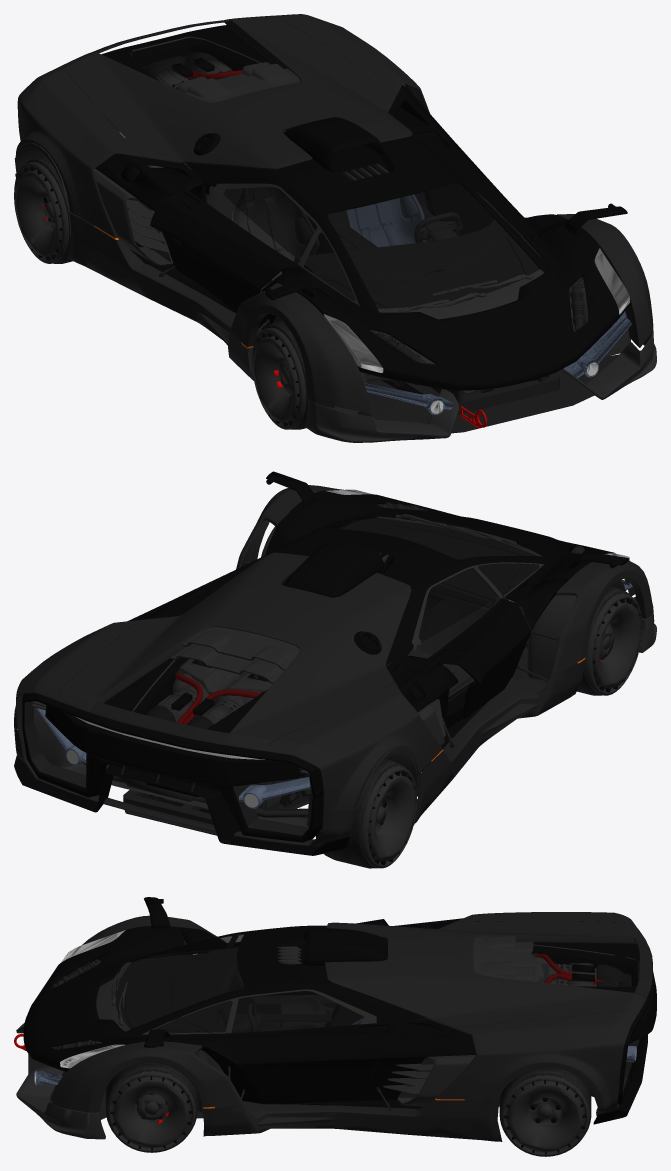
Rendered from supercar_door.glb.
3 views of the same model, one above another, from view 1: azimuth 30°, elevation 25°; view 2: azimuth 150°, elevation 25°; view 3: azimuth 270°, elevation 25° (orthographic). The views are drawn at different scales.
Parts seen in each view (by area): view 1: Body, Door_R, Wheel_RR, Wheel_FR; view 2: Body, Wheel_RR, Door_R, Wheel_FR; view 3: Body, Wheel_RL, Wheel_FL.
Boxes of the visible parts, bbox=[...] form: Body: bbox=[14, 14, 656, 442]; Door_R: bbox=[150, 186, 301, 307]; Wheel_RR: bbox=[14, 154, 110, 263]; Wheel_FR: bbox=[252, 320, 328, 429]; Body: bbox=[14, 471, 656, 855]; Wheel_RR: bbox=[315, 759, 417, 868]; Door_R: bbox=[426, 598, 530, 718]; Wheel_FR: bbox=[575, 586, 642, 695]; Body: bbox=[14, 897, 656, 1141]; Wheel_RL: bbox=[499, 1067, 591, 1156]; Wheel_FL: bbox=[105, 1062, 197, 1152].
Bounding box in the file's own units: 2.23 × 1.08 × 4.11.
Materials: 18 (3 with a texture image).
